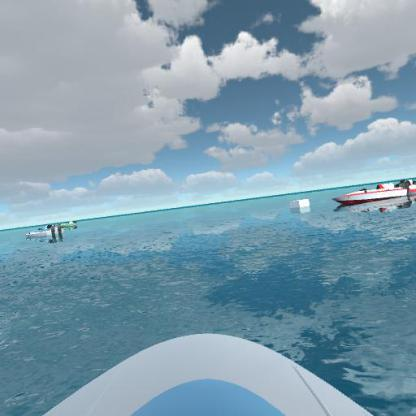usv0: (53, 216, 82, 230)
usv1: (22, 222, 67, 244)
usv3: (332, 178, 410, 209)
